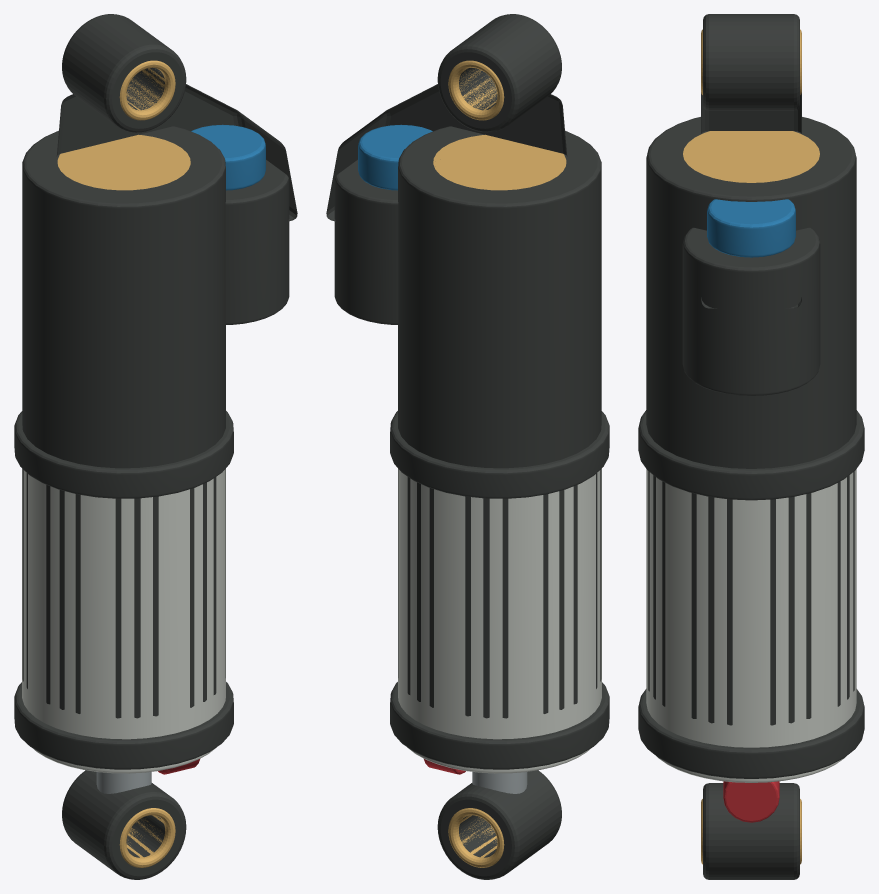
File: fox-float-x2-factory-my26--bc69a047.glb
The picture shows the model from 3 angles, left to right: view 1: azimuth 30°, elevation 25°; view 2: azimuth 150°, elevation 25°; view 3: azimuth 270°, elevation 25°; orthographic projection. The views are drawn at different scales.
Parts seen in each view (by area): view 1: fox-float-x2-factory-my26--bc69a047__link, fox-float-x2-factory-my26--bc69a047__frame, fox-float-x2-factory-my26--bc69a047__stanchions, fox-float-x2-factory-my26--bc69a047__adjuster, fox-float-x2-factory-my26--bc69a047__bolts; view 2: fox-float-x2-factory-my26--bc69a047__link, fox-float-x2-factory-my26--bc69a047__frame, fox-float-x2-factory-my26--bc69a047__stanchions, fox-float-x2-factory-my26--bc69a047__adjuster, fox-float-x2-factory-my26--bc69a047__bolts; view 3: fox-float-x2-factory-my26--bc69a047__link, fox-float-x2-factory-my26--bc69a047__frame, fox-float-x2-factory-my26--bc69a047__stanchions, fox-float-x2-factory-my26--bc69a047__adjuster, fox-float-x2-factory-my26--bc69a047__rebound.
Boxes of the visible parts, bbox=[...] form: fox-float-x2-factory-my26--bc69a047__link: bbox=[14, 14, 297, 879]; fox-float-x2-factory-my26--bc69a047__frame: bbox=[22, 468, 225, 773]; fox-float-x2-factory-my26--bc69a047__stanchions: bbox=[57, 60, 190, 867]; fox-float-x2-factory-my26--bc69a047__adjuster: bbox=[191, 124, 265, 190]; fox-float-x2-factory-my26--bc69a047__bolts: bbox=[96, 772, 151, 793]; fox-float-x2-factory-my26--bc69a047__link: bbox=[326, 14, 609, 879]; fox-float-x2-factory-my26--bc69a047__frame: bbox=[398, 468, 601, 773]; fox-float-x2-factory-my26--bc69a047__stanchions: bbox=[433, 60, 566, 867]; fox-float-x2-factory-my26--bc69a047__adjuster: bbox=[358, 124, 432, 190]; fox-float-x2-factory-my26--bc69a047__bolts: bbox=[472, 772, 527, 793]; fox-float-x2-factory-my26--bc69a047__link: bbox=[638, 14, 864, 879]; fox-float-x2-factory-my26--bc69a047__frame: bbox=[646, 469, 856, 782]; fox-float-x2-factory-my26--bc69a047__stanchions: bbox=[683, 29, 819, 864]; fox-float-x2-factory-my26--bc69a047__adjuster: bbox=[707, 199, 795, 257]; fox-float-x2-factory-my26--bc69a047__rebound: bbox=[723, 781, 779, 822].
Size of the model in its own units: 0.074 by 0.234 by 0.056.
